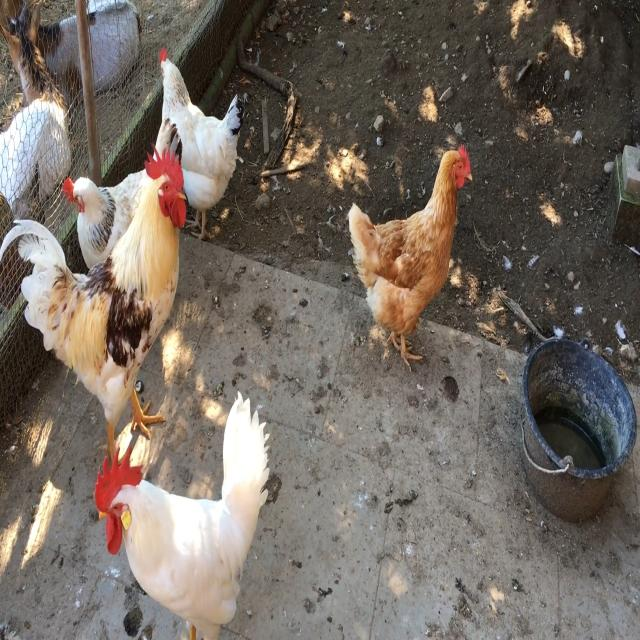chicken: (329, 128, 495, 412), (16, 166, 197, 415), (81, 419, 284, 640), (152, 53, 256, 227)
